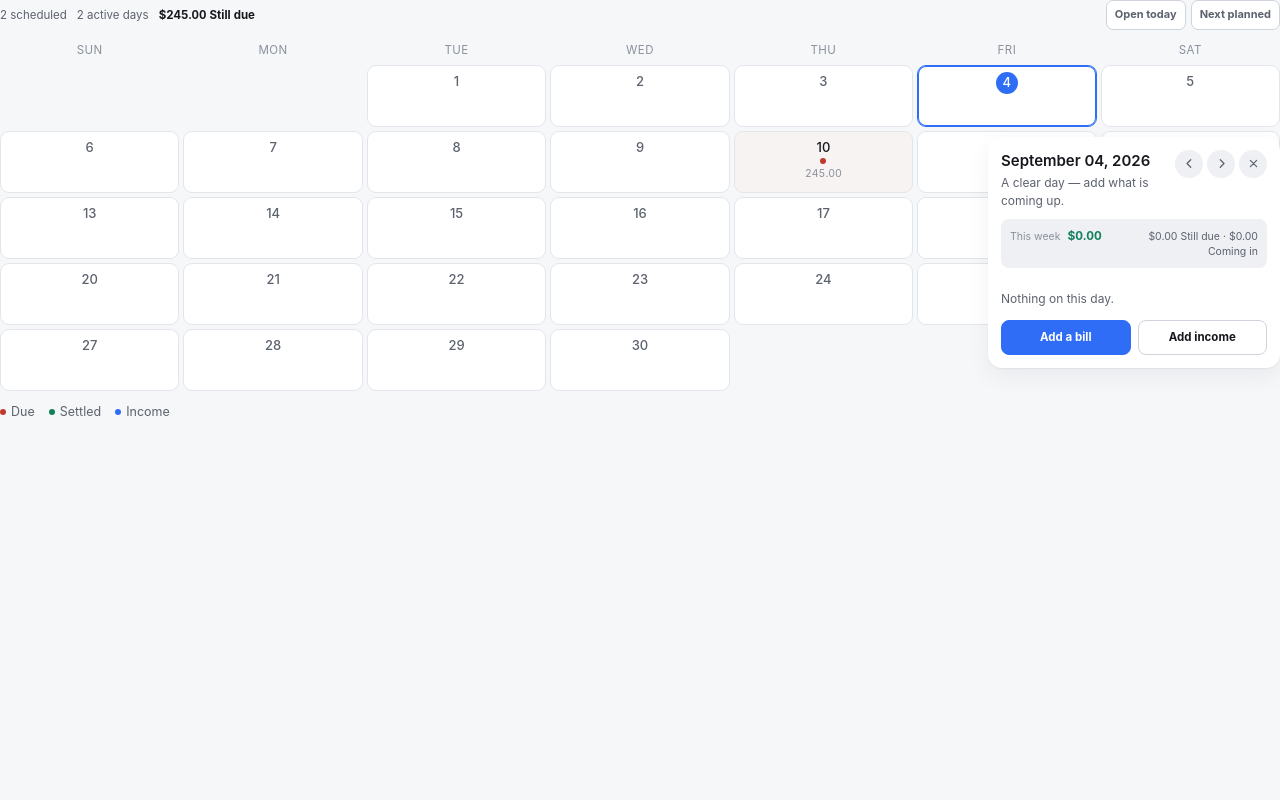
it: CalendarView day card › shows the selected week cash context
Click the button named "September 10, 2026" at (823,162), box left=734, top=131, right=913, bottom=193
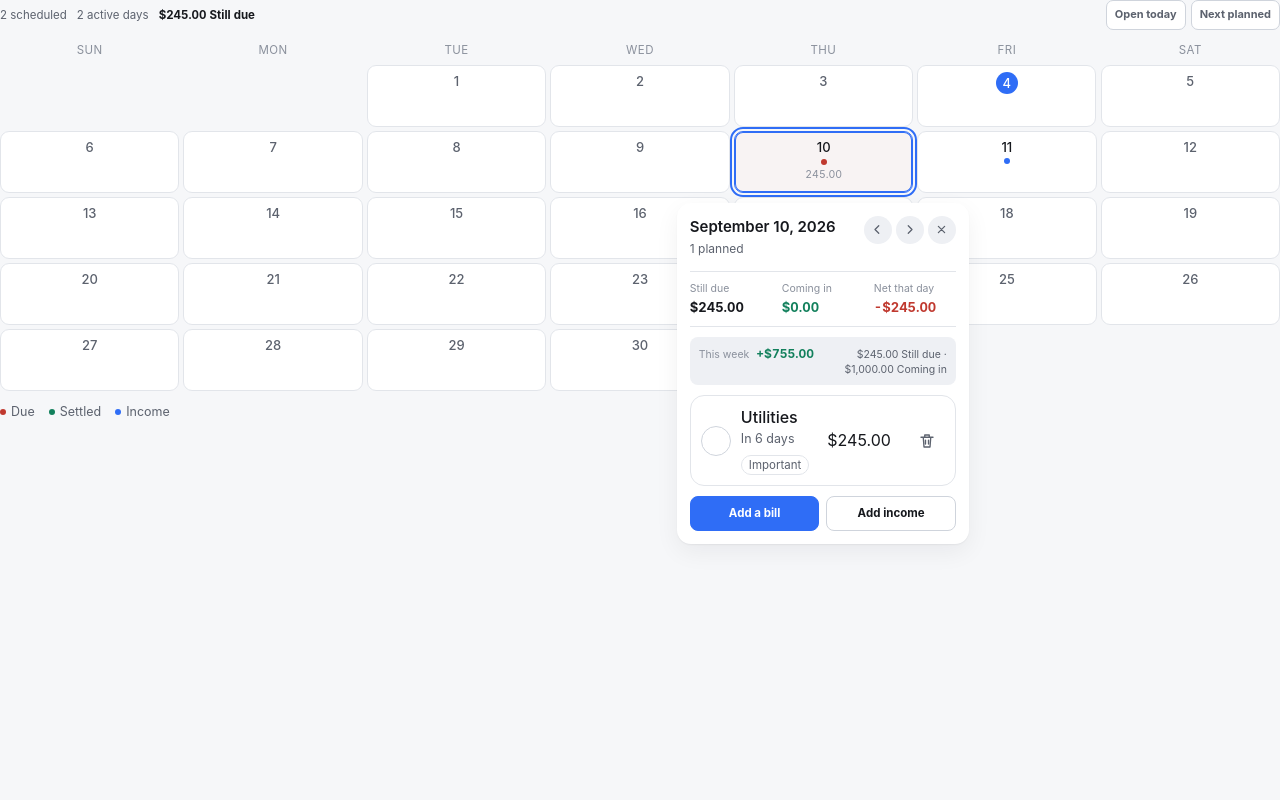
Expected: the text "This week" is shown, left=699, top=347, right=749, bottom=362
Expected: the text "+$755.00" is shown, left=756, top=345, right=814, bottom=362
